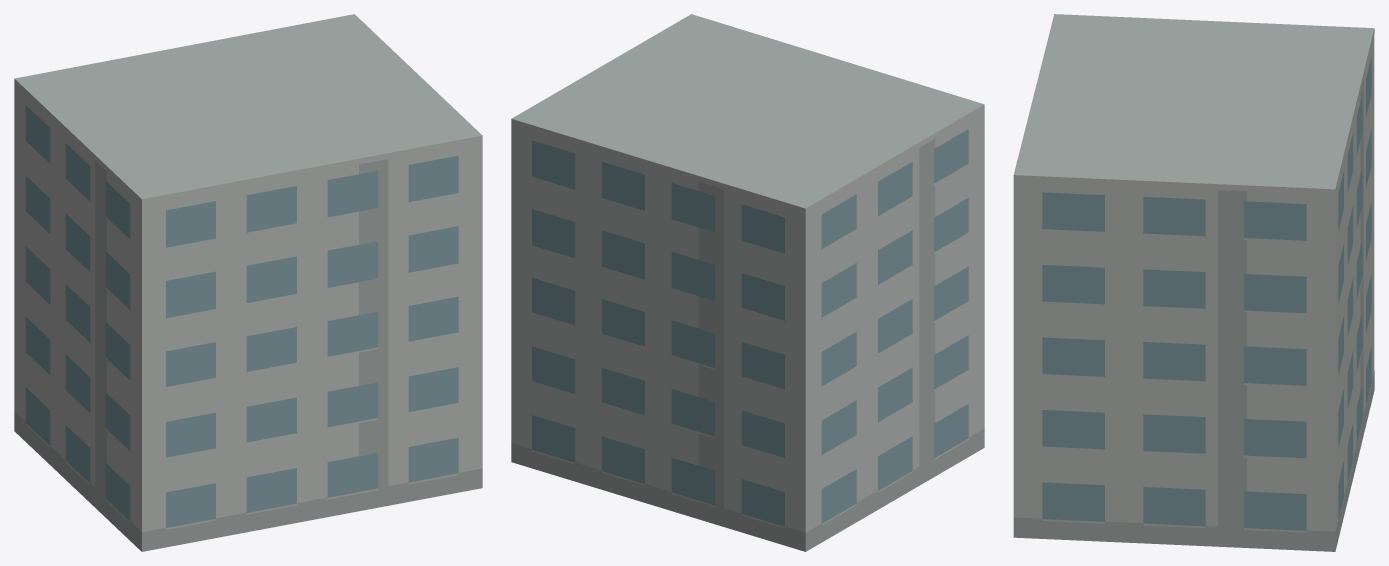
The model's file is survey-upis-32811525.glb.
The picture shows the model from 3 angles, left to right: view 1: azimuth 30°, elevation 25°; view 2: azimuth 150°, elevation 25°; view 3: azimuth 270°, elevation 25°; orthographic projection. The views are drawn at different scales.
Visible parts, largest first — view 1: survey-upis-32811525.tmp; view 2: survey-upis-32811525.tmp; view 3: survey-upis-32811525.tmp.
Boxes of the visible parts, <box> form: survey-upis-32811525.tmp: <box>14,14,482,551</box>; survey-upis-32811525.tmp: <box>511,14,984,551</box>; survey-upis-32811525.tmp: <box>1013,14,1374,551</box>.
Bounding box in the file's own units: 15.15 × 14.6 × 13.18.
